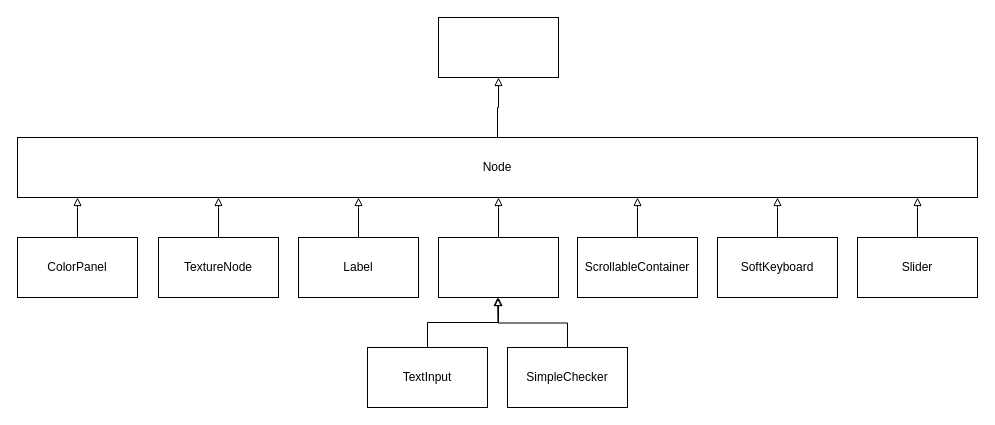
This 995x425 diagram has some shape labels left out. The centre of each missing label's shape, as x and y in pixels:
"ModuleElement" belongs at [498,267].
"ofNode" belongs at [498,47].
